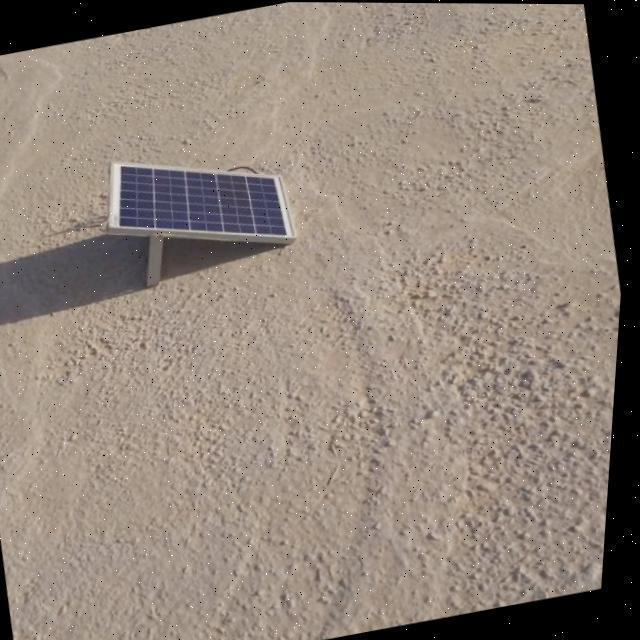Normal Solar Panel: (99, 131, 303, 270)
